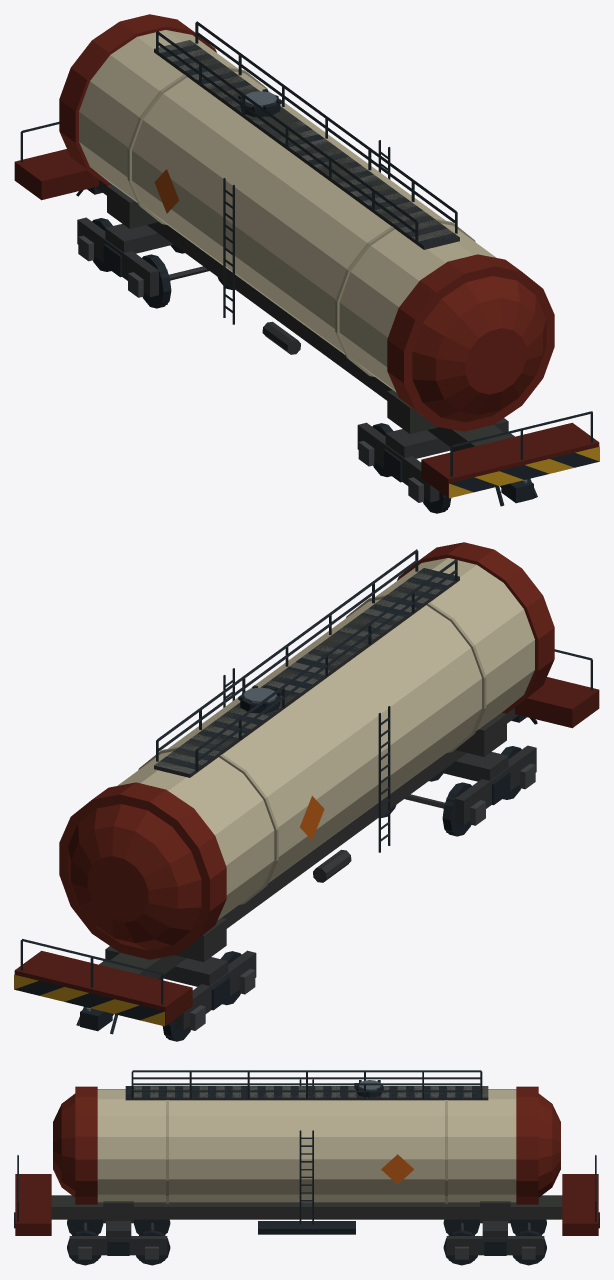
Rendered from insulated-tanker.glb.
3 renders of one model, top to bottom at view 1: azimuth 30°, elevation 25°; view 2: azimuth 150°, elevation 25°; view 3: azimuth 270°, elevation 25°, orthographic. The views are drawn at different scales.
Visible parts, largest first — view 1: insulated-tanker (×2); view 2: insulated-tanker (×2); view 3: insulated-tanker (×2).
Boxes of the visible parts, x1=… form: insulated-tanker (×2): x1=14, y1=14, x2=599, y2=513; insulated-tanker (×2): x1=14, y1=542, x2=599, y2=1041; insulated-tanker (×2): x1=14, y1=1070, x2=599, y2=1265.
Size of the model in its own units: 8.77 by 13.83 by 42.
